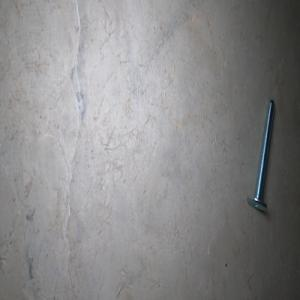Bolt: (246, 99, 275, 211)
